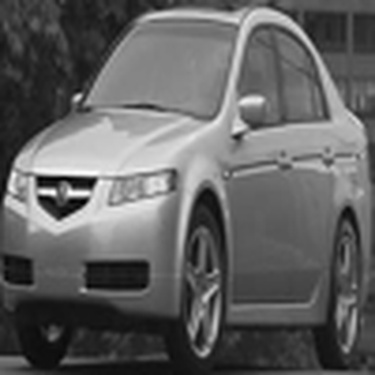car: (7, 6, 372, 372)
